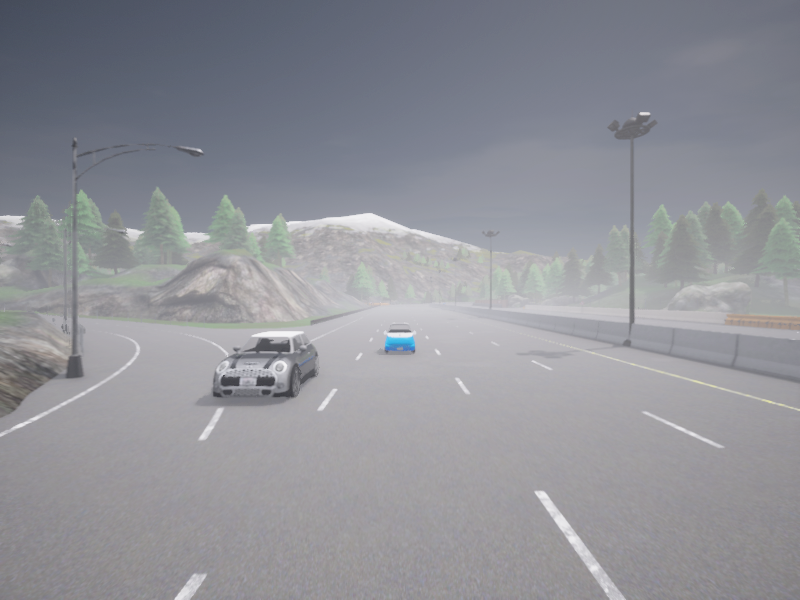vehicle: (212, 332, 318, 397), (384, 323, 415, 353), (443, 302, 445, 304)
